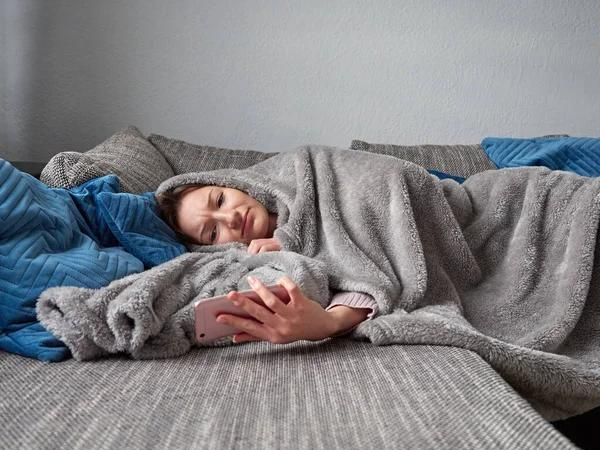blanket: (35, 142, 600, 426)
